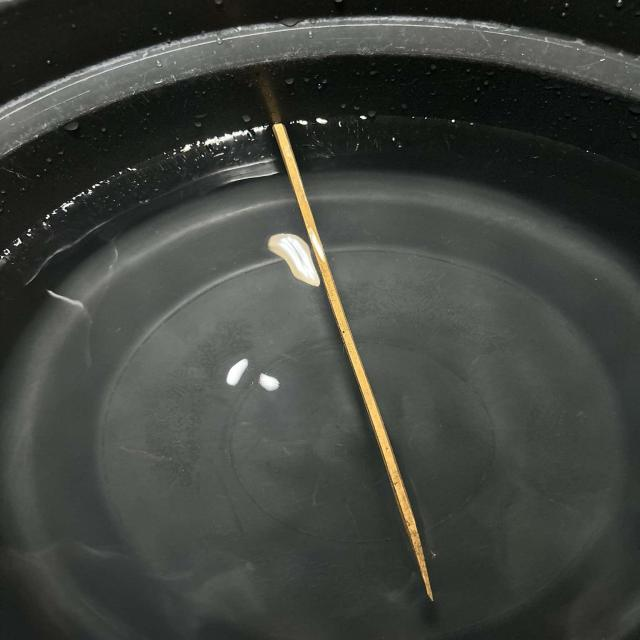Wood Stick: (272, 122, 433, 602)
